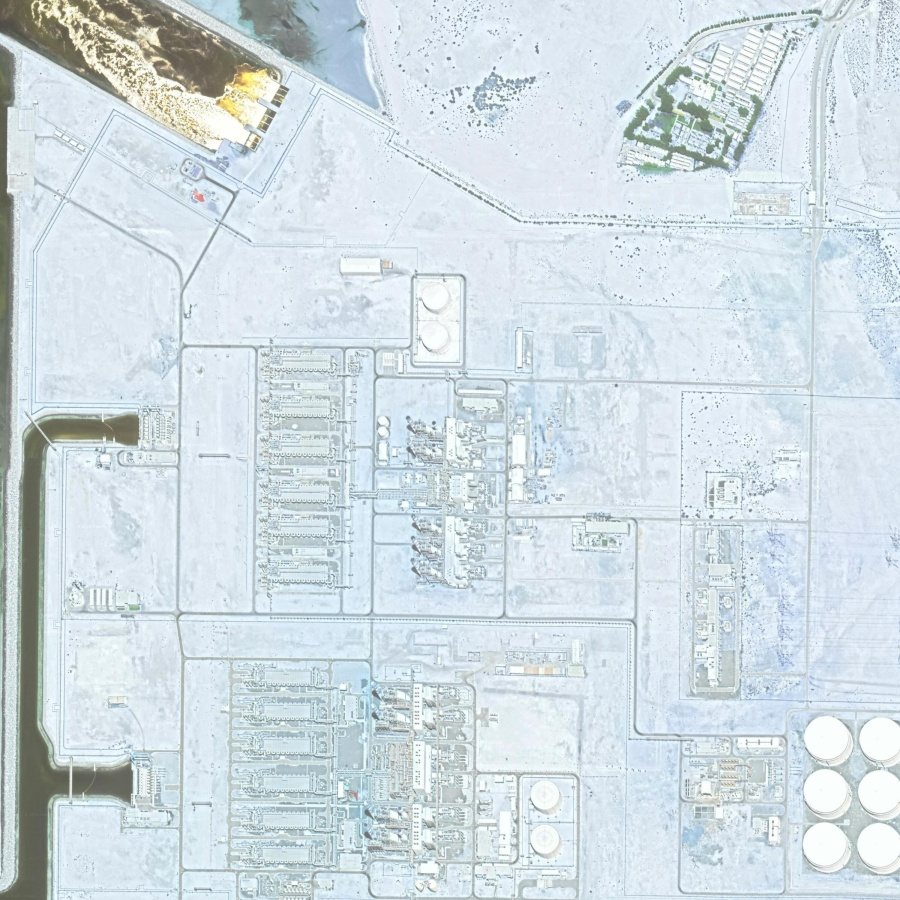PowerPlant: (254, 250, 585, 594)
